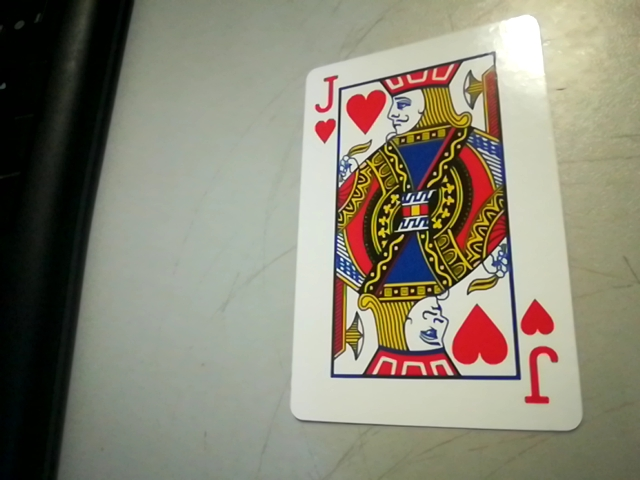hx j: (512, 295, 574, 414)
